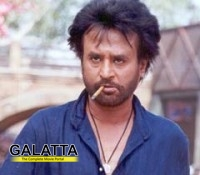cigarette: (91, 81, 106, 100)
